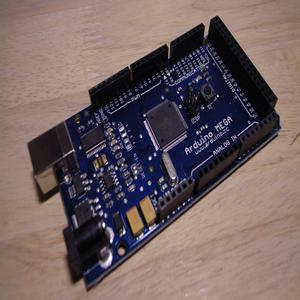duino: (19, 11, 290, 289)
